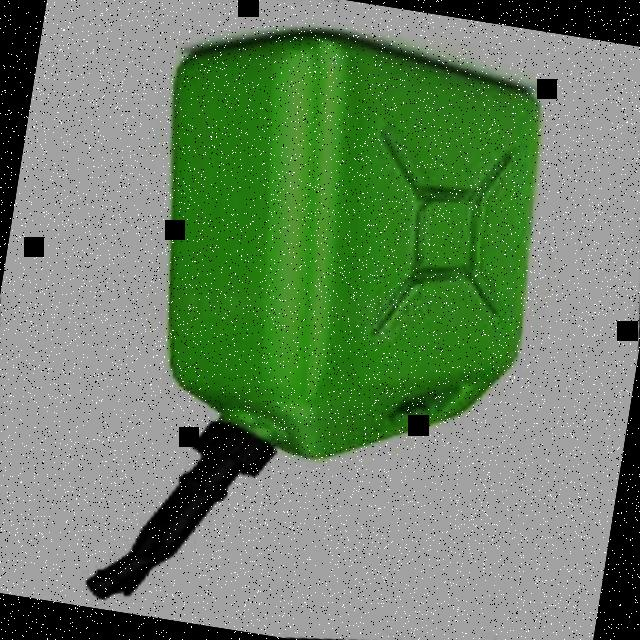chemical_plastic_gallon: (91, 0, 607, 536)
